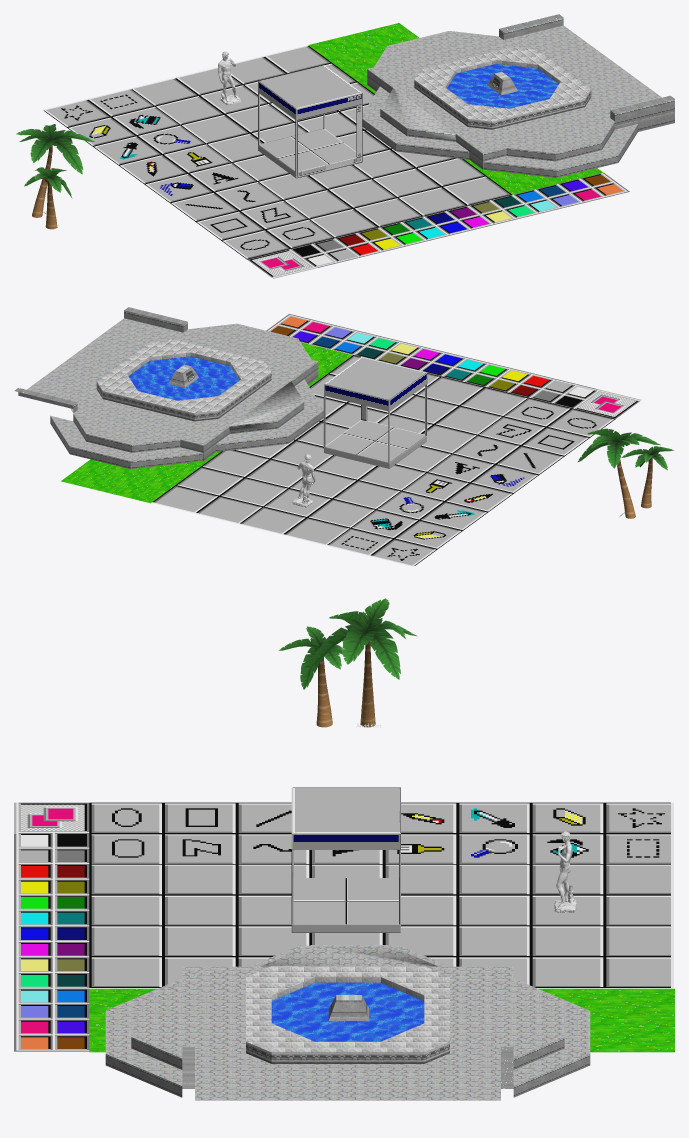
File: start_004.glb
3 renders of one model, top to bottom at view 1: azimuth 30°, elevation 25°; view 2: azimuth 150°, elevation 25°; view 3: azimuth 270°, elevation 25°, orthographic. The views are drawn at different scales.
Parts seen in each view (by area): view 1: PlumberFountain, Floor_buttons, Floor_toolbar, Floor_palette, Windows_Gazeebo, PlumberGrass, Statue_David, leave3, tree1; view 2: PlumberFountain, Floor_buttons, Floor_toolbar, Floor_palette, Windows_Gazeebo, PlumberGrass, Statue_David, tree1; view 3: PlumberFountain, Floor_buttons, Floor_toolbar, Floor_palette, Windows_Gazeebo, PlumberGrass, Statue_David, leave8, tree1.
Part boxes in pixels (x1,y1,x2,y2): PlumberFountain: (362, 14, 674, 177); Floor_buttons: (131, 45, 511, 237); Floor_toolbar: (43, 88, 334, 259); Floor_palette: (247, 172, 629, 278); Windows_Gazeebo: (258, 65, 362, 178); PlumberGrass: (308, 23, 602, 194); Statue_David: (218, 51, 241, 104); leave3: (51, 137, 83, 174); tree1: (32, 145, 52, 217); PlumberFountain: (14, 307, 323, 468); Floor_buttons: (151, 355, 527, 545); Floor_toolbar: (326, 397, 615, 566); Floor_palette: (266, 314, 641, 418); Windows_Gazeebo: (323, 356, 427, 468); PlumberGrass: (61, 342, 352, 503); Statue_David: (292, 454, 315, 507); tree1: (617, 459, 635, 518); PlumberFountain: (105, 945, 590, 1100); Floor_buttons: (89, 864, 673, 987); Floor_toolbar: (89, 802, 673, 864); Floor_palette: (14, 802, 89, 1051); Windows_Gazeebo: (291, 787, 400, 932); PlumberGrass: (89, 988, 674, 1052); Statue_David: (554, 831, 576, 912); leave8: (369, 629, 400, 679); tree1: (360, 641, 375, 727).
Bounding box in the file's own units: 34.73 × 4.55 × 23.16.
14 materials, 13 textured.
